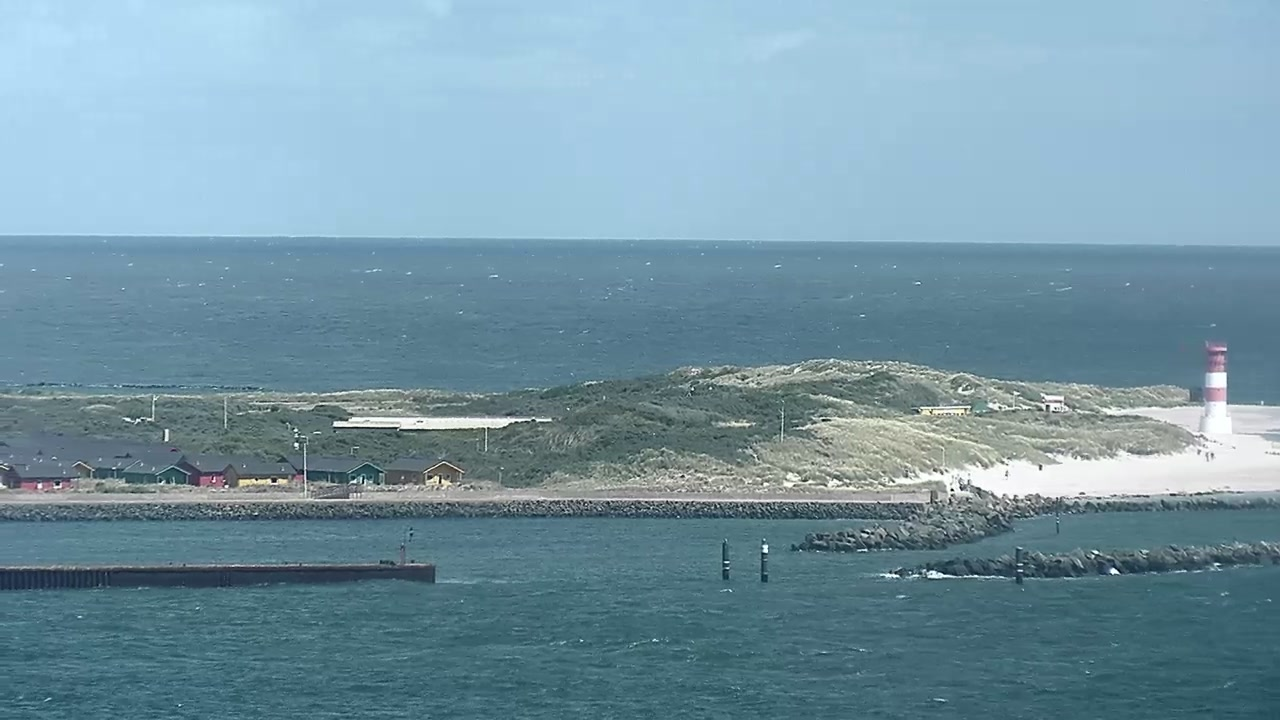human: (1203, 449, 1209, 462), (1036, 461, 1043, 472), (1208, 449, 1215, 460), (1004, 467, 1009, 478)
